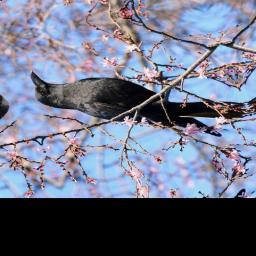Crow: (23, 34, 254, 170)
